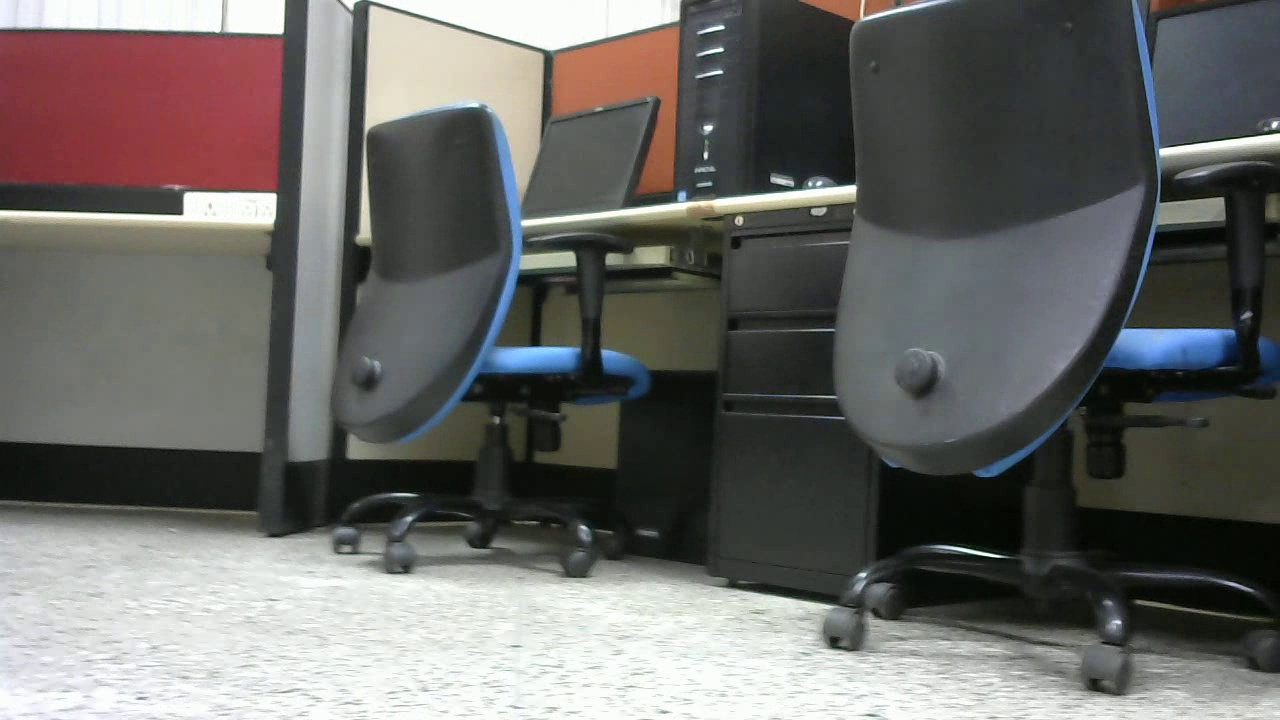chair: (326, 108, 646, 590)
